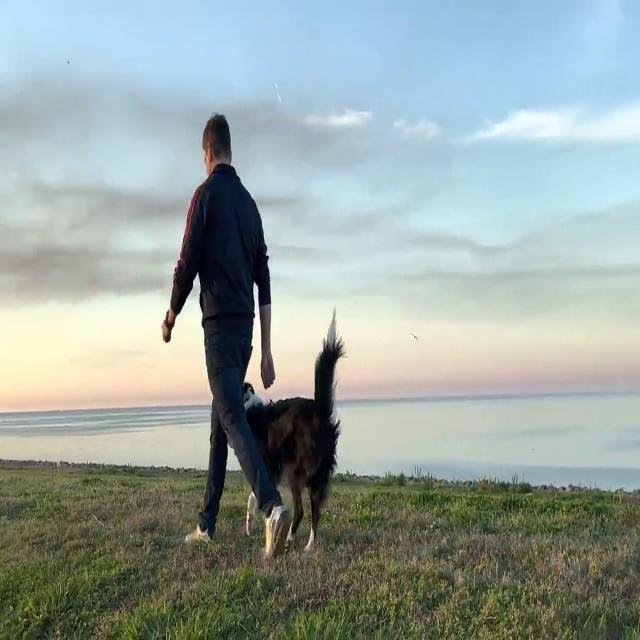Unleashed_Dog: (208, 308, 346, 558)
